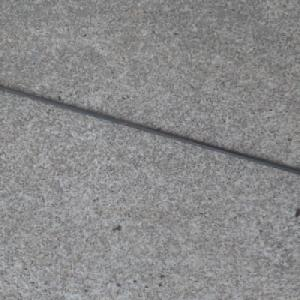LuggagePart: (0, 83, 300, 175)
